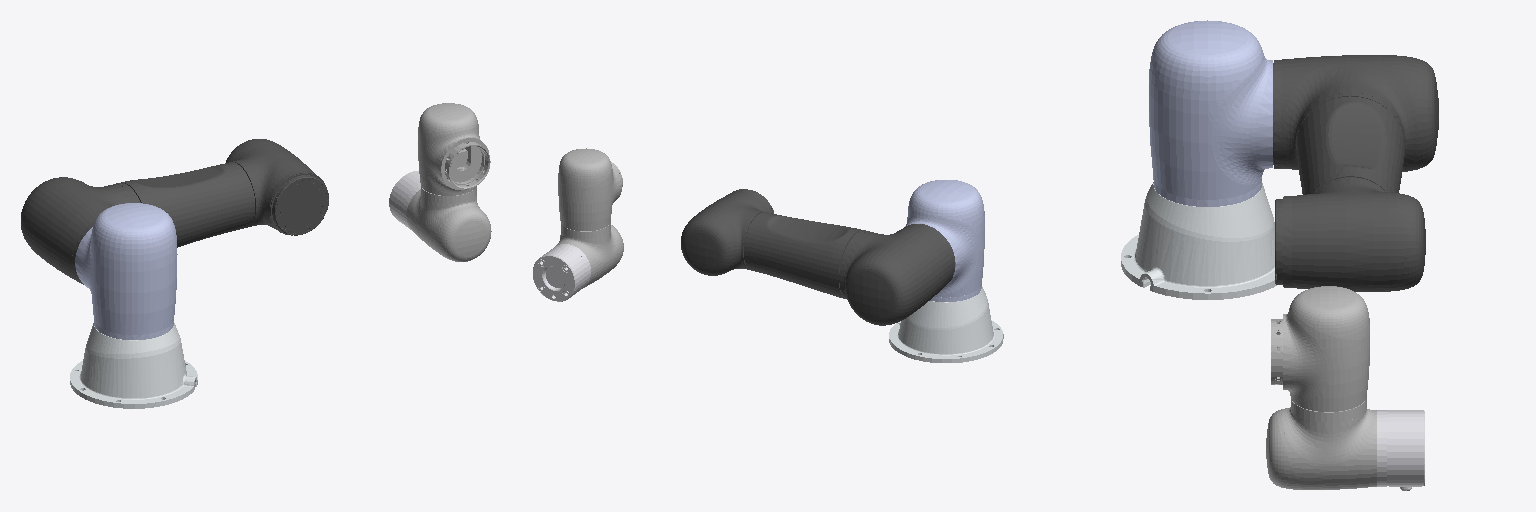
robot.urdf — gcr3_description:
<?xml version="1.0" encoding="utf-8"?>
<!-- This URDF was automatically created by SolidWorks to URDF Exporter! Originally created by [author] ([email redacted]) 
     Commit Version: 1.5.1-0-g916b5db  Build Version: 1.5.7152.31018
     For more information, please see http://wiki.ros.org/sw_urdf_exporter -->
<robot
  name="gcr3_description">
  <link
    name="base_link">
    <inertial>
      <origin
        xyz="0.000136323162455365 -0.00111434266328092 0.0321200423386677"
        rpy="0 0 0" />
      <mass
        value="0.423388711801464" />
      <inertia
        ixx="0.000841649070117241"
        ixy="1.34840857750186E-06"
        ixz="9.46459604286431E-07"
        iyy="0.000842533429797665"
        iyz="1.10173972502877E-05"
        izz="0.00123577833070647" />
    </inertial>
    <visual>
      <origin
        xyz="0 0 0"
        rpy="0 0 0" />
      <geometry>
        <mesh
          filename="package://gcr3_description/meshes/base_link.STL" />
      </geometry>
      <material
        name="">
        <color
          rgba="0.898039215686275 0.917647058823529 0.929411764705882 1" />
      </material>
    </visual>
    <collision>
      <origin
        xyz="0 0 0"
        rpy="0 0 0" />
      <geometry>
        <mesh
          filename="package://gcr3_description/meshes/base_link.STL" />
      </geometry>
    </collision>
  </link>
  <link
    name="link1">
    <inertial>
      <origin
        xyz="2.20804910209993E-05 0.0043145690792519 0.0613407551209361"
        rpy="0 0 0" />
      <mass
        value="2.40333317338857" />
      <inertia
        ixx="0.00519074780127937"
        ixy="-1.07391073317573E-06"
        ixz="-3.30018632479753E-07"
        iyy="0.00518428813096667"
        iyz="-0.000146087725795125"
        izz="0.00410756603537975" />
    </inertial>
    <visual>
      <origin
        xyz="0 0 0"
        rpy="0 0 0" />
      <geometry>
        <mesh
          filename="package://gcr3_description/meshes/link1.STL" />
      </geometry>
      <material
        name="">
        <color
          rgba="0.792156862745098 0.819607843137255 0.933333333333333 1" />
      </material>
    </visual>
    <collision>
      <origin
        xyz="0 0 0"
        rpy="0 0 0" />
      <geometry>
        <mesh
          filename="package://gcr3_description/meshes/link1.STL" />
      </geometry>
    </collision>
  </link>
  <joint
    name="joint1"
    type="revolute">
    <origin
      xyz="0 0 0.065002"
      rpy="0 0 0" />
    <parent
      link="base_link" />
    <child
      link="link1" />
    <axis
      xyz="0 0 1" />
    <limit
      lower="-3.5"
      upper="3.5"
      effort="1"
      velocity="1" />
  </joint>
  <link
    name="link2">
    <inertial>
      <origin
        xyz="0.106870331992956 0.0630276704911119 2.03496426911948E-05"
        rpy="0 0 0" />
      <mass
        value="4.87303661469465" />
      <inertia
        ixx="0.00883261480812056"
        ixy="-0.00026147712427381"
        ixz="8.14605913731158E-06"
        iyy="0.0670417604325876"
        iyz="-7.86418668519907E-06"
        izz="0.0686400765722775" />
    </inertial>
    <visual>
      <origin
        xyz="0 0 0"
        rpy="0 0 0" />
      <geometry>
        <mesh
          filename="package://gcr3_description/meshes/link2.STL" />
      </geometry>
      <material
        name="">
        <color
          rgba="0.384313725490196 0.384313725490196 0.384313725490196 1" />
      </material>
    </visual>
    <collision>
      <origin
        xyz="0 0 0"
        rpy="0 0 0" />
      <geometry>
        <mesh
          filename="package://gcr3_description/meshes/link2.STL" />
      </geometry>
    </collision>
  </link>
  <joint
    name="joint2"
    type="revolute">
    <origin
      xyz="3.1629E-05 0.047 0.071"
      rpy="0 0 0" />
    <parent
      link="link1" />
    <child
      link="link2" />
    <axis
      xyz="0 1 0" />
    <limit
      lower="-4"
      upper="1"
      effort="1"
      velocity="1" />
  </joint>
  <link
    name="link3">
    <inertial>
      <origin
        xyz="0.16965 -0.045842 -4.8622E-05"
        rpy="0 0 0" />
      <mass
        value="1.9085" />
      <inertia
        ixx="0.0016927"
        ixy="0.00016055"
        ixz="-2.8513E-06"
        iyy="0.011484"
        iyz="1.5355E-06"
        izz="0.011637" />
    </inertial>
    <visual>
      <origin
        xyz="0 0 0"
        rpy="0 0 0" />
      <geometry>
        <mesh
          filename="package://gcr3_description/meshes/link3.STL" />
      </geometry>
      <material
        name="">
        <color
          rgba="0.38431 0.38431 0.38431 1" />
      </material>
    </visual>
    <collision>
      <origin
        xyz="0 0 0"
        rpy="0 0 0" />
      <geometry>
        <mesh
          filename="package://gcr3_description/meshes/link3.STL" />
      </geometry>
    </collision>
  </link>
  <joint
    name="joint3"
    type="revolute">
    <origin
      xyz="0.25 0.01481 3.1629E-05"
      rpy="0 0 0" />
    <parent
      link="link2" />
    <child
      link="link3" />
    <axis
      xyz="0 1 0" />
    <limit
      lower="-3.5"
      upper="3.5"
      effort="1"
      velocity="1" />
  </joint>
  <link
    name="link4">
    <inertial>
      <origin
        xyz="4.23862278264298E-05 0.0427629669530122 -0.00403980637843512"
        rpy="0 0 0" />
      <mass
        value="1.3694590052905" />
      <inertia
        ixx="0.00125065675843402"
        ixy="-6.74032724511125E-07"
        ixz="6.95210386097153E-07"
        iyy="0.00119190461900014"
        iyz="3.32774513339068E-05"
        izz="0.00111384445359654" />
    </inertial>
    <visual>
      <origin
        xyz="0 0 0"
        rpy="0 0 0" />
      <geometry>
        <mesh
          filename="package://gcr3_description/meshes/link4.STL" />
      </geometry>
      <material
        name="">
        <color
          rgba="0.752941176470588 0.752941176470588 0.752941176470588 1" />
      </material>
    </visual>
    <collision>
      <origin
        xyz="0 0 0"
        rpy="0 0 0" />
      <geometry>
        <mesh
          filename="package://gcr3_description/meshes/link4.STL" />
      </geometry>
    </collision>
  </link>
  <joint
    name="joint4"
    type="revolute">
    <origin
      xyz="0.215 -0.00939 0"
      rpy="0 0 0" />
    <parent
      link="link3" />
    <child
      link="link4" />
    <axis
      xyz="0 1 0" />
    <limit
      lower="-4"
      upper="1"
      effort="1"
      velocity="1" />
  </joint>
  <link
    name="link5">
    <inertial>
      <origin
        xyz="-4.25546121172182E-05 0.00387368169245263 -0.0427449520213087"
        rpy="0 0 0" />
      <mass
        value="1.36404290017875" />
      <inertia
        ixx="0.00123857322855258"
        ixy="7.04848990189637E-07"
        ixz="-6.75075642955624E-07"
        iyy="0.00110892240424718"
        iyz="3.22452754661748E-05"
        izz="0.00117993301313163" />
    </inertial>
    <visual>
      <origin
        xyz="0 0 0"
        rpy="0 0 0" />
      <geometry>
        <mesh
          filename="package://gcr3_description/meshes/link5.STL" />
      </geometry>
      <material
        name="">
        <color
          rgba="0.752941176470588 0.752941176470588 0.752941176470588 1" />
      </material>
    </visual>
    <collision>
      <origin
        xyz="0 0 0"
        rpy="0 0 0" />
      <geometry>
        <mesh
          filename="package://gcr3_description/meshes/link5.STL" />
      </geometry>
    </collision>
  </link>
  <joint
    name="joint5"
    type="revolute">
    <origin
      xyz="0 0.0473 -0.04061"
      rpy="0 0 0" />
    <parent
      link="link4" />
    <child
      link="link5" />
    <axis
      xyz="0 0 1" />
    <limit
      lower="-4"
      upper="4"
      effort="1"
      velocity="1" />
  </joint>
  <link
    name="link6">
    <inertial>
      <origin
        xyz="-3.46803696871234E-11 0.0193729037197398 0.000103305759071286"
        rpy="0 0 0" />
      <mass
        value="0.311459167715637" />
      <inertia
        ixx="0.000116649713026086"
        ixy="3.23987019529537E-12"
        ixz="1.56076426230093E-12"
        iyy="0.000159480022583186"
        iyz="-2.91954426444736E-07"
        izz="0.000117223792926036" />
    </inertial>
    <visual>
      <origin
        xyz="0 0 0"
        rpy="0 0 0" />
      <geometry>
        <mesh
          filename="package://gcr3_description/meshes/link6.STL" />
      </geometry>
      <material
        name="">
        <color
          rgba="0.890196078431372 0.890196078431372 0.913725490196078 1" />
      </material>
    </visual>
    <collision>
      <origin
        xyz="0 0 0"
        rpy="0 0 0" />
      <geometry>
        <mesh
          filename="package://gcr3_description/meshes/link6.STL" />
      </geometry>
    </collision>
  </link>
  <joint
    name="joint6"
    type="revolute">
    <origin
      xyz="0 0.04011 -0.0473"
      rpy="0 0 0" />
    <parent
      link="link5" />
    <child
      link="link6" />
    <axis
      xyz="0 1 0" />
    <limit
      lower="-4"
      upper="4"
      effort="1"
      velocity="1" />
  </joint>
</robot>

--- Render facts (derived) ---
3 views of the same robot in one strip: view 1: azimuth 30°, elevation 25°; view 2: azimuth 150°, elevation 25°; view 3: azimuth 270°, elevation 25° (orthographic).
Robot: gcr3_description — 7 links, 6 joints (6 revolute); root link base_link; default pose: all joints at 0.
Links seen in each view (by area): view 1: link2, link1, base_link, link4, link5, link6; view 2: link2, link1, base_link, link4, link6, link5; view 3: link2, link1, base_link, link4, link5, link6.
Boxes of the visible links, x1,y1,x2,y2 form: link2: [21, 139, 328, 284]; link1: [75, 203, 177, 339]; base_link: [70, 323, 197, 408]; link4: [418, 103, 490, 203]; link5: [406, 189, 491, 261]; link6: [389, 171, 420, 229]; link2: [681, 189, 954, 325]; link1: [905, 180, 984, 301]; base_link: [889, 287, 1003, 362]; link4: [558, 148, 622, 238]; link6: [533, 244, 590, 301]; link5: [556, 225, 623, 287]; link2: [1273, 55, 1438, 291]; link1: [1149, 20, 1272, 206]; base_link: [1121, 182, 1276, 299]; link4: [1271, 286, 1369, 422]; link5: [1266, 407, 1376, 489]; link6: [1377, 410, 1424, 490].
Bounding box of the posed robot: 0.5713 × 0.2631 × 0.2091 m (x, y, z).
6 mesh visuals loaded from 7 distinct referenced files (6 binary STL); not drawn: 1 (reference not matched to a file when rendering).